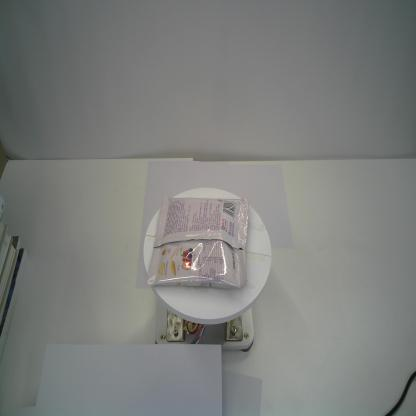Instant Drink: (146, 196, 250, 291)
